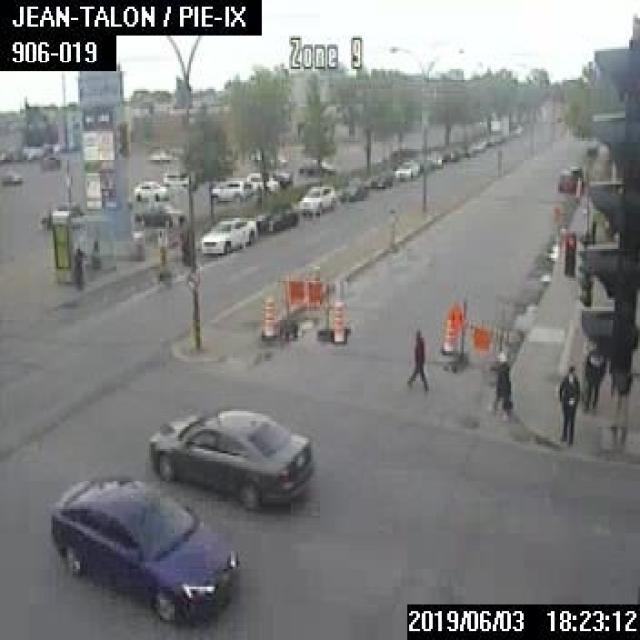construction: (448, 299, 514, 372), (275, 262, 333, 340), (260, 296, 275, 338), (331, 298, 345, 342), (442, 314, 454, 352)
pedestrian: (555, 362, 580, 444), (405, 325, 429, 392), (581, 343, 605, 410), (489, 344, 511, 414), (73, 247, 84, 288)
vehicle: (47, 478, 237, 622), (147, 408, 310, 511), (198, 215, 256, 253), (134, 202, 184, 226), (256, 202, 296, 232), (298, 184, 334, 214), (210, 177, 250, 200), (246, 170, 278, 193), (133, 177, 167, 198), (556, 164, 582, 191), (338, 176, 367, 200), (297, 158, 335, 174), (365, 170, 391, 188), (393, 159, 419, 177), (162, 172, 190, 186), (272, 170, 291, 187), (0, 168, 20, 183), (42, 154, 59, 170), (585, 142, 595, 154)
